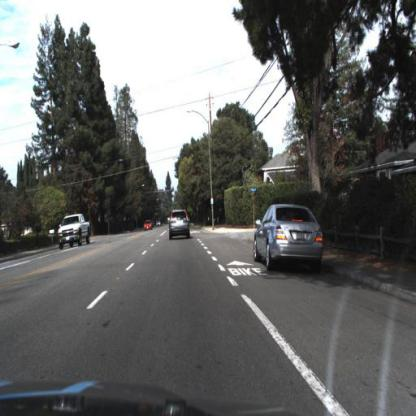car: (254, 204, 330, 281), (57, 214, 95, 250), (168, 208, 193, 245), (145, 220, 154, 232)
